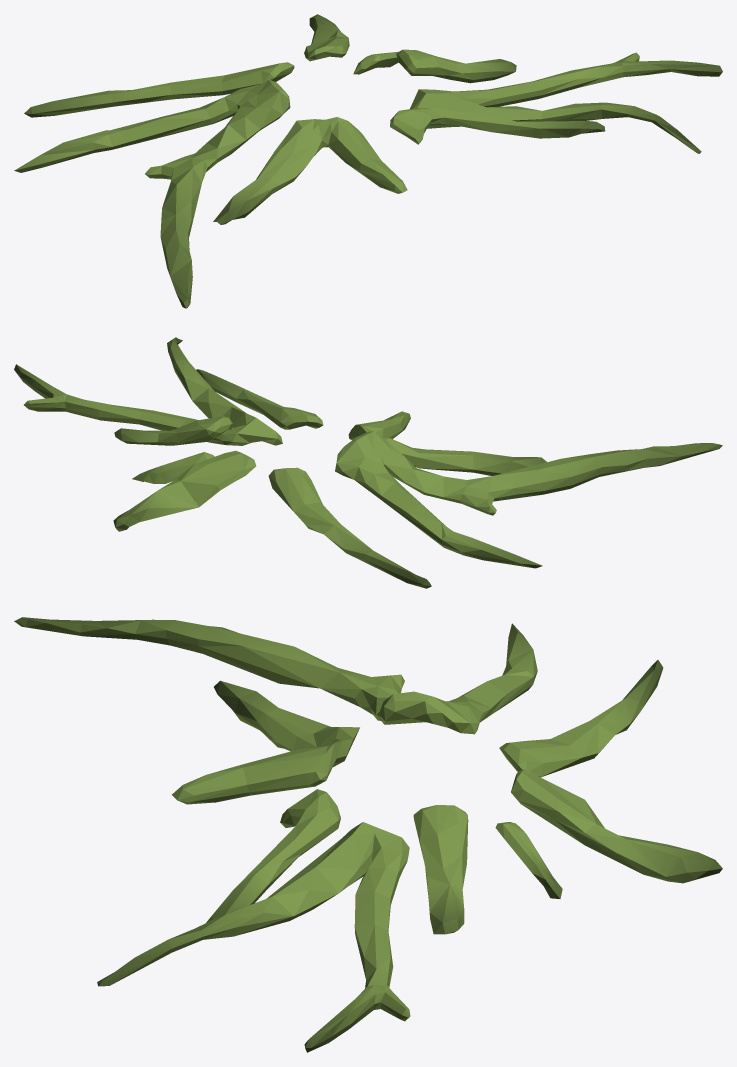
File: Jungle_Roots_C_grass.fbx
3 renders of one model, top to bottom at view 1: azimuth 30°, elevation 25°; view 2: azimuth 150°, elevation 25°; view 3: azimuth 270°, elevation 25°, orthographic. The views are drawn at different scales.
Visible parts, largest first — view 1: Jungle_Roots_C_grass; view 2: Jungle_Roots_C_grass; view 3: Jungle_Roots_C_grass.
Part boxes in pixels (x1,y1,x2,y2): Jungle_Roots_C_grass: (14, 14, 722, 308); Jungle_Roots_C_grass: (14, 337, 722, 588); Jungle_Roots_C_grass: (14, 617, 722, 1052).
Size of the model in its own units: 8.17 by 0.7954 by 5.68.
